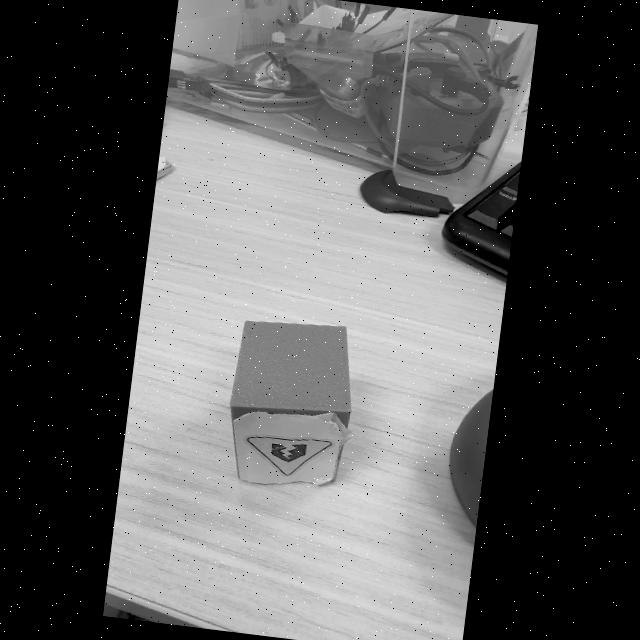Earthquake: (243, 435, 331, 475)
